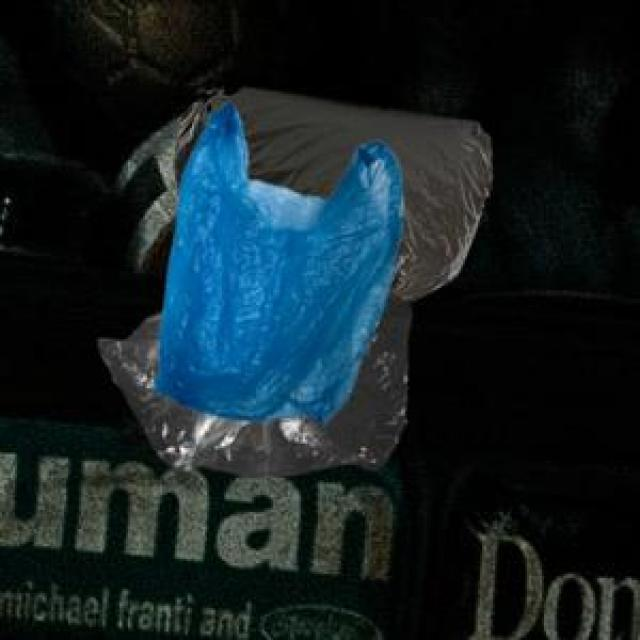miscellaneous trash: (171, 81, 489, 299)
